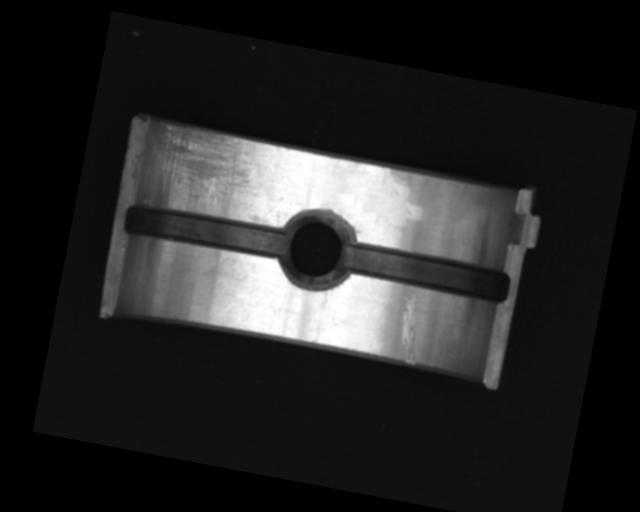gap: (342, 238, 512, 309), (120, 198, 286, 263)
hole: (273, 204, 361, 294)
nick: (391, 291, 428, 366)
scratch: (141, 118, 269, 223)
